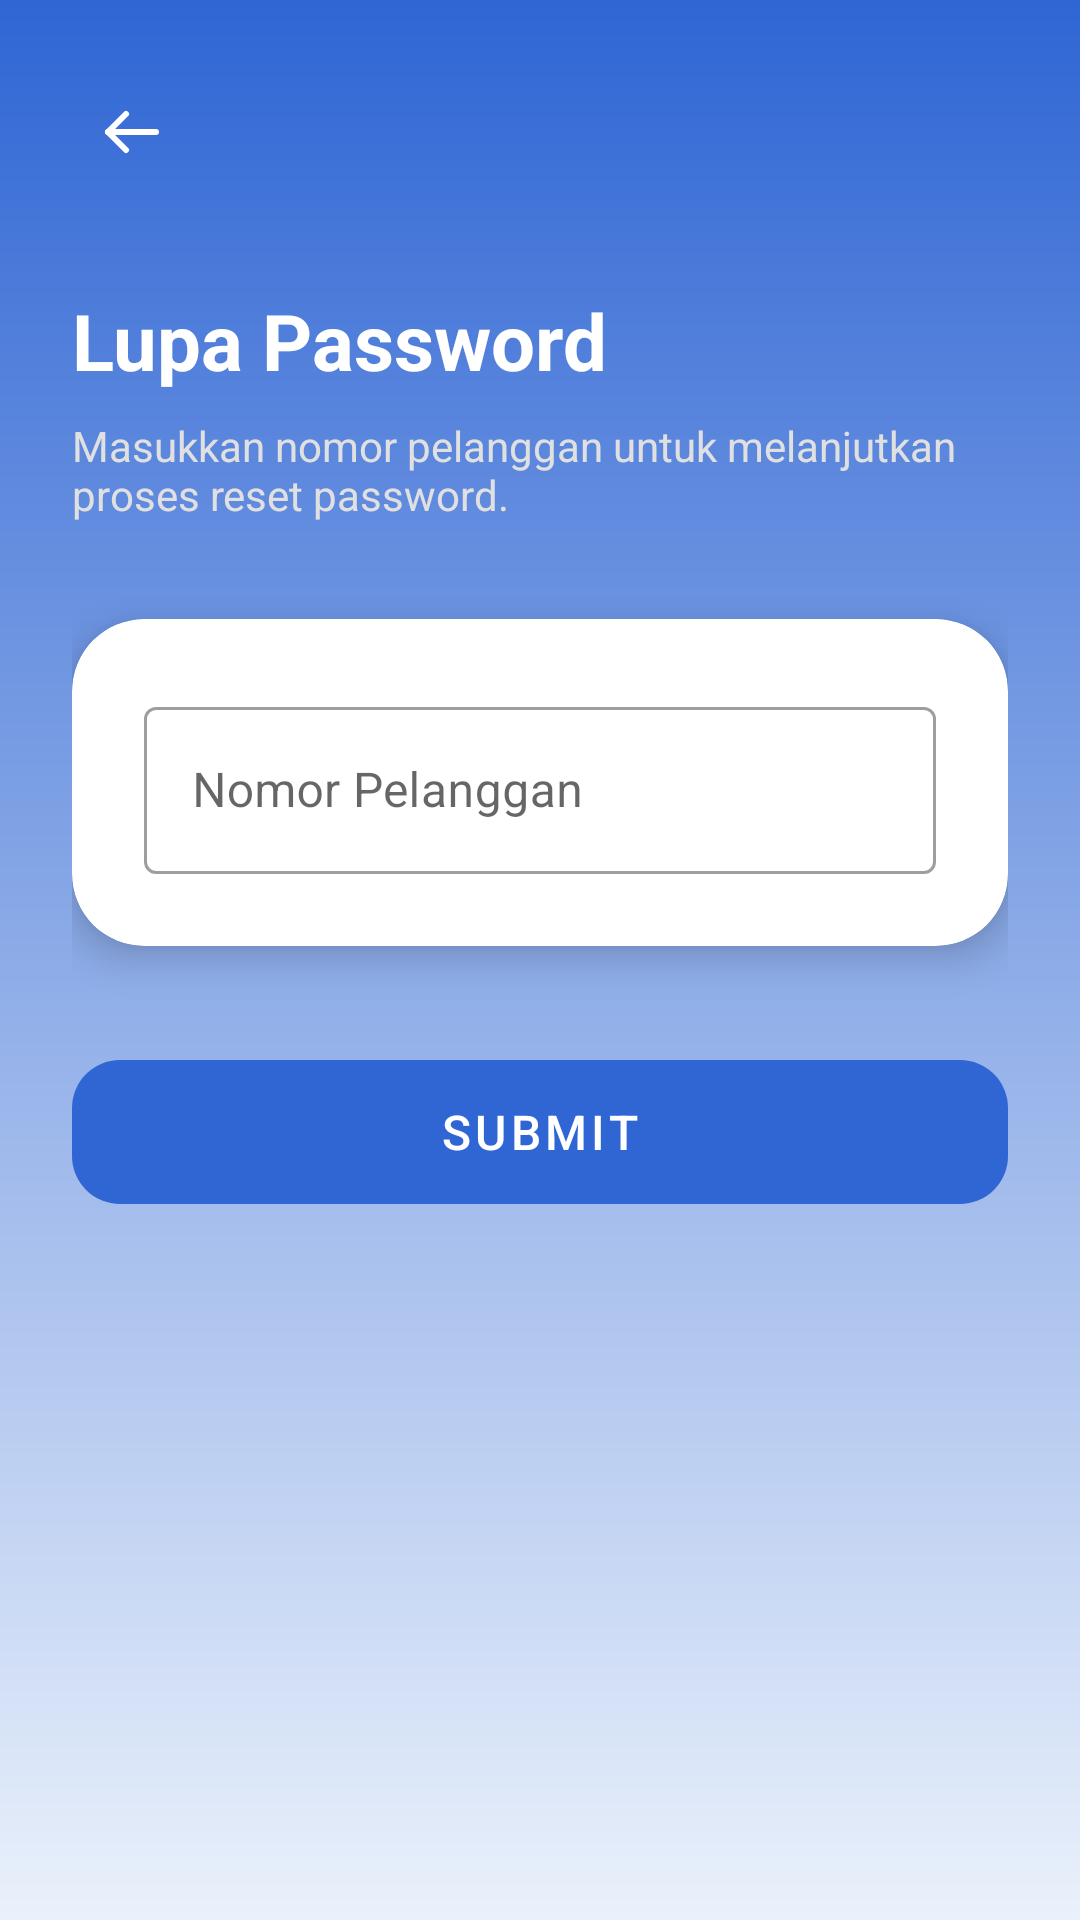

Icons on this 1080w x 1920h Android screen, each with its box as (x1, y1, x2, y2):
arrow back: (105, 111, 159, 153)
